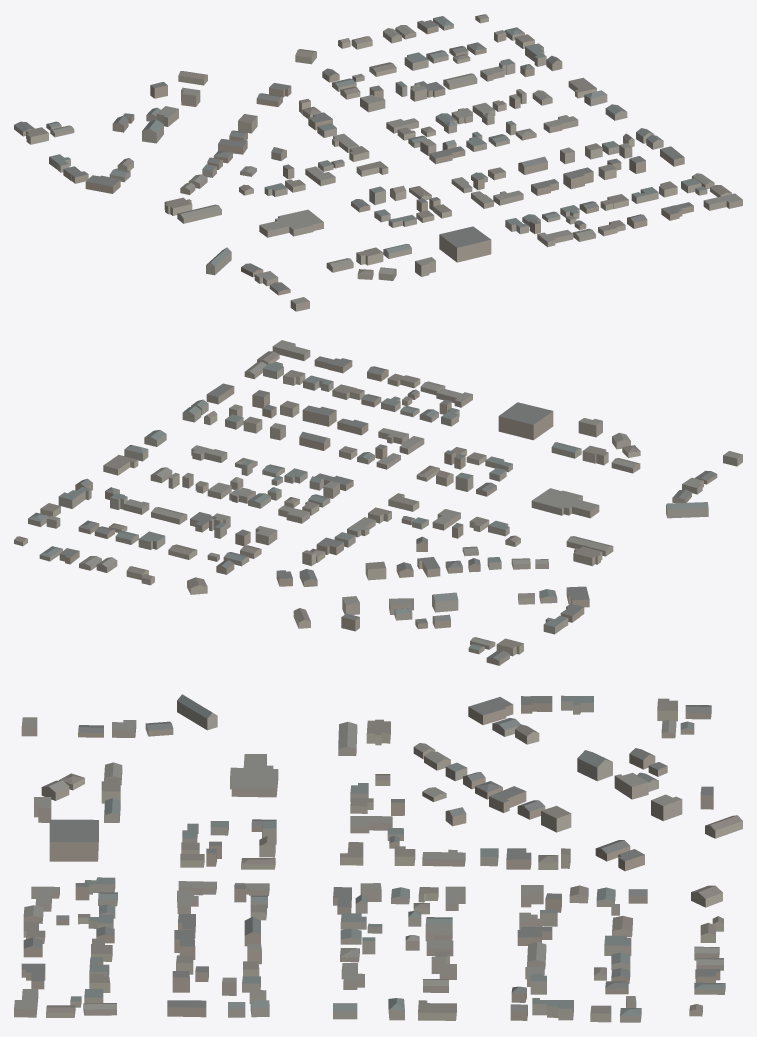
File: ef647719240a-chunk-1200_11844.glb
3 renders of one model, top to bottom at view 1: azimuth 30°, elevation 25°; view 2: azimuth 150°, elevation 25°; view 3: azimuth 270°, elevation 25°, orthographic. The views are drawn at different scales.
Visible parts, largest first — view 1: building_98895, building_30019, building_93494, building_80363, building_101776; view 2: building_98895, building_30019, building_155249, building_101776; view 3: building_98895, building_30019, building_80363, building_27446, building_155249, building_130184, building_159809, building_28552, building_80036, building_8004, building_63067, building_78810 (+11 smaller).
Part boxes in pixels (x1,y1,x2,y2): building_98895: (439, 226, 491, 262); building_30019: (259, 209, 323, 237); building_93494: (177, 204, 221, 223); building_80363: (85, 175, 120, 193); building_101776: (563, 167, 593, 189); building_98895: (498, 402, 553, 440); building_30019: (531, 488, 599, 518); building_155249: (666, 502, 708, 518); building_101776: (302, 405, 336, 426); building_98895: (49, 819, 98, 861); building_30019: (230, 754, 278, 797); building_80363: (468, 697, 513, 724); building_27446: (577, 750, 612, 781); building_155249: (177, 694, 217, 730); building_130184: (532, 998, 573, 1020); building_159809: (418, 1000, 456, 1020); building_28552: (614, 772, 648, 799); building_80036: (489, 786, 526, 812); building_8004: (350, 816, 392, 833); building_63067: (651, 794, 682, 821); building_78810: (167, 1000, 206, 1017).
Size of the model in its own units: 391 by 11.3 by 379.
